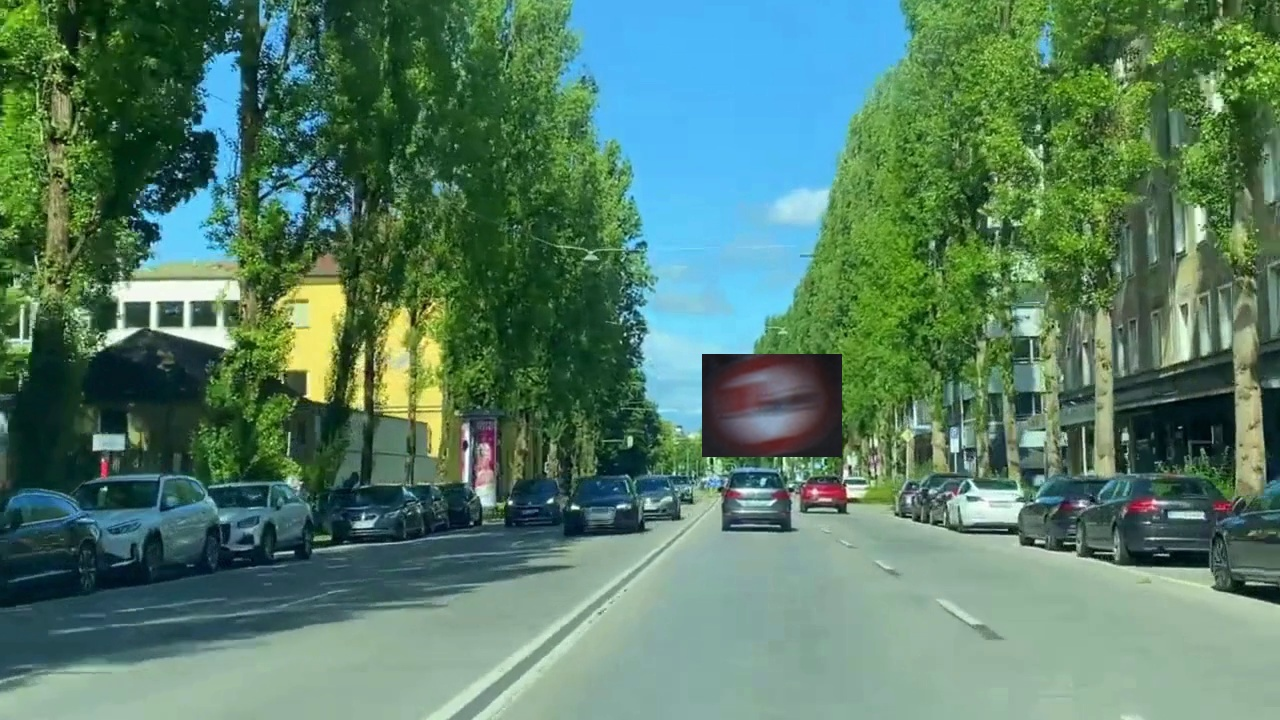No pass >3.5t: (702, 354, 842, 457)
